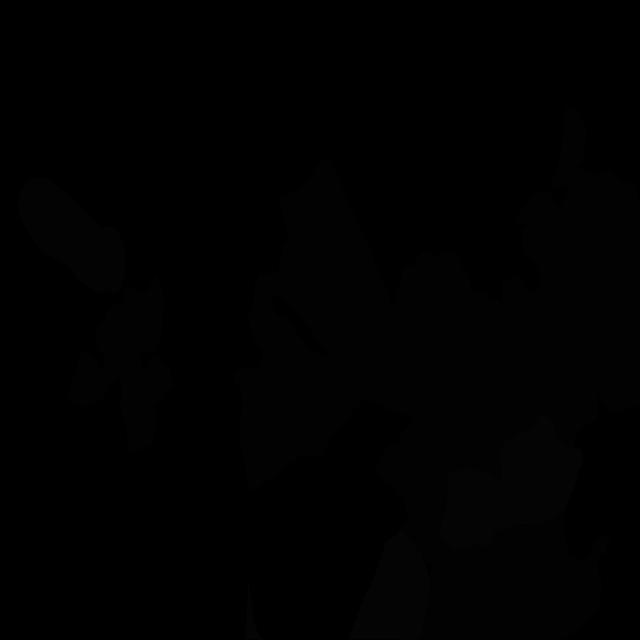cardboard: (376, 276, 613, 640), (273, 159, 524, 427), (514, 104, 640, 413), (234, 271, 367, 493), (68, 274, 174, 453)
metal: (18, 177, 126, 294)
soft_plastic: (440, 414, 583, 550), (348, 529, 430, 640), (246, 580, 264, 640)
